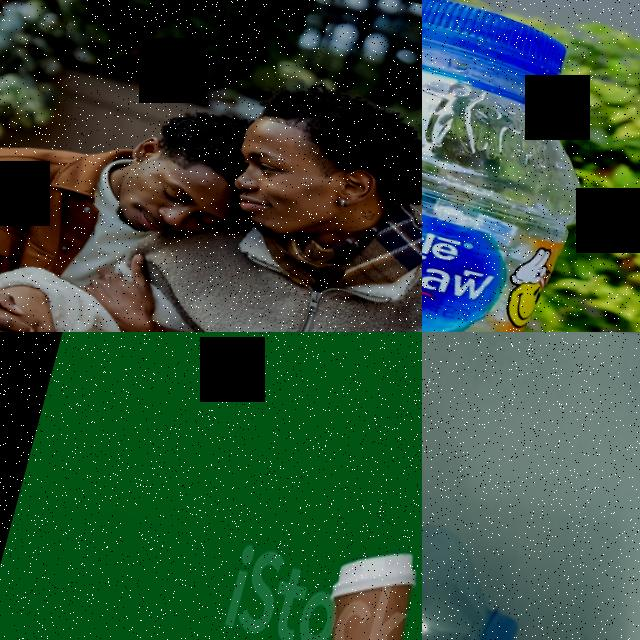bottle: (422, 0, 626, 332), (422, 405, 549, 640)
cup: (284, 535, 422, 640)
